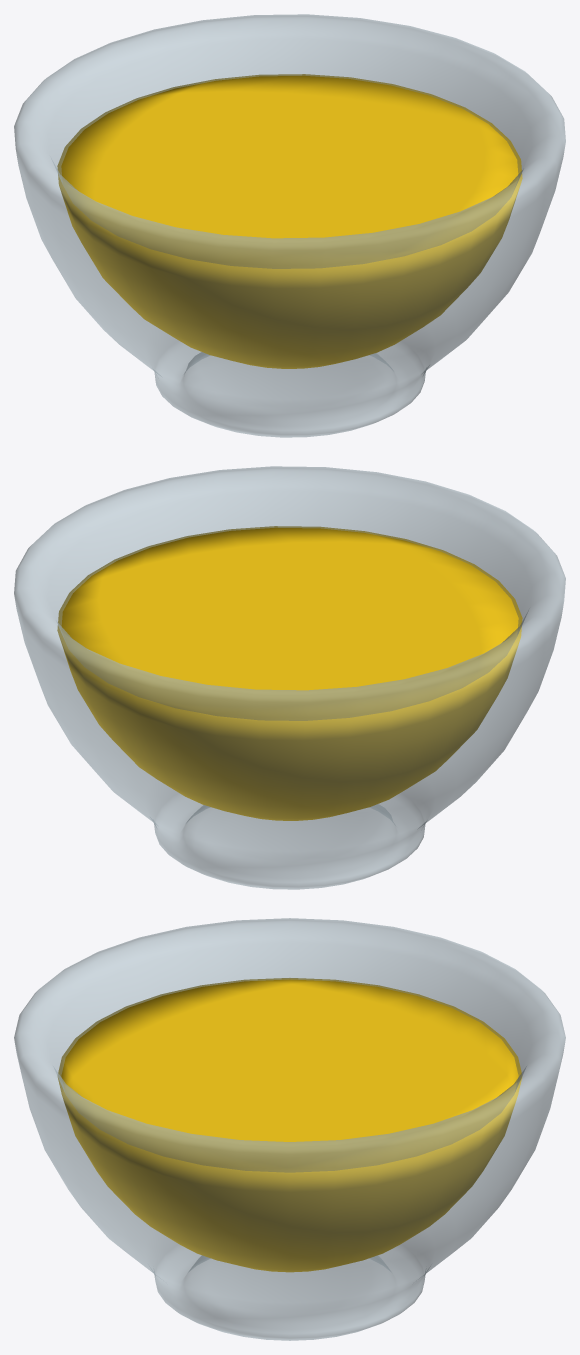
Rendered from CheeseBowl.glb.
The picture shows the model from 3 angles, top to bottom: view 1: azimuth 30°, elevation 25°; view 2: azimuth 150°, elevation 25°; view 3: azimuth 270°, elevation 25°; orthographic projection.
Visible parts, largest first — view 1: Bowl, Dough; view 2: Bowl, Dough; view 3: Bowl, Dough.
Part boxes in pixels (box(x1,y1,x2,y2)): Bowl: box(14, 14, 565, 437); Dough: box(57, 74, 522, 368); Bowl: box(14, 466, 565, 889); Dough: box(57, 526, 522, 820); Bowl: box(14, 918, 565, 1340); Dough: box(58, 978, 521, 1272).
Bounding box in the file's own units: 2.24 × 1.16 × 2.24.
